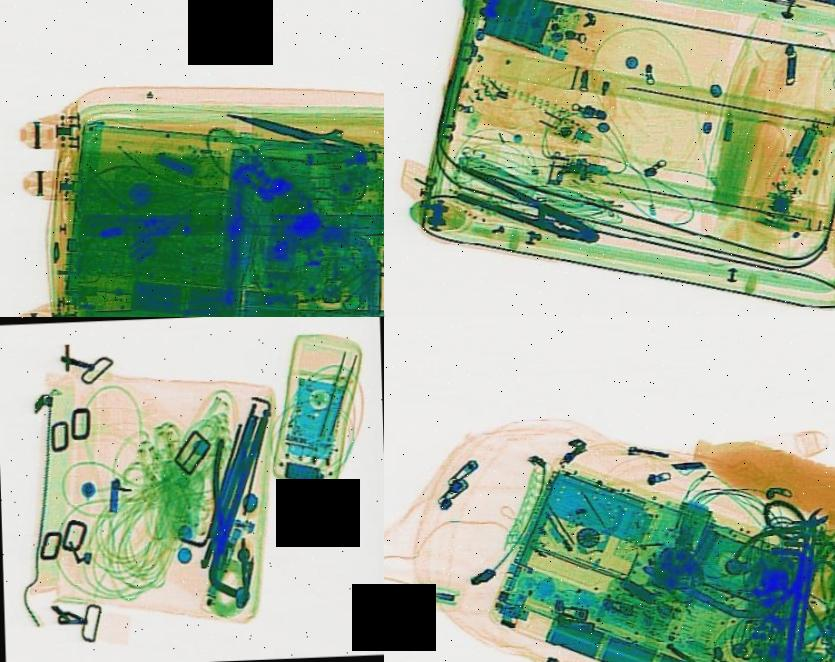Knife: (221, 97, 375, 160)
Pliers: (430, 157, 621, 255), (724, 482, 835, 607), (198, 436, 256, 554)
